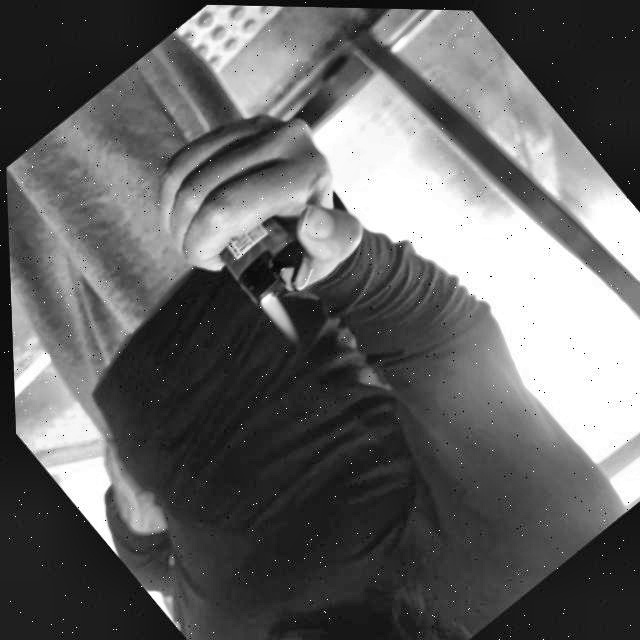Fire: (257, 292, 302, 341)
